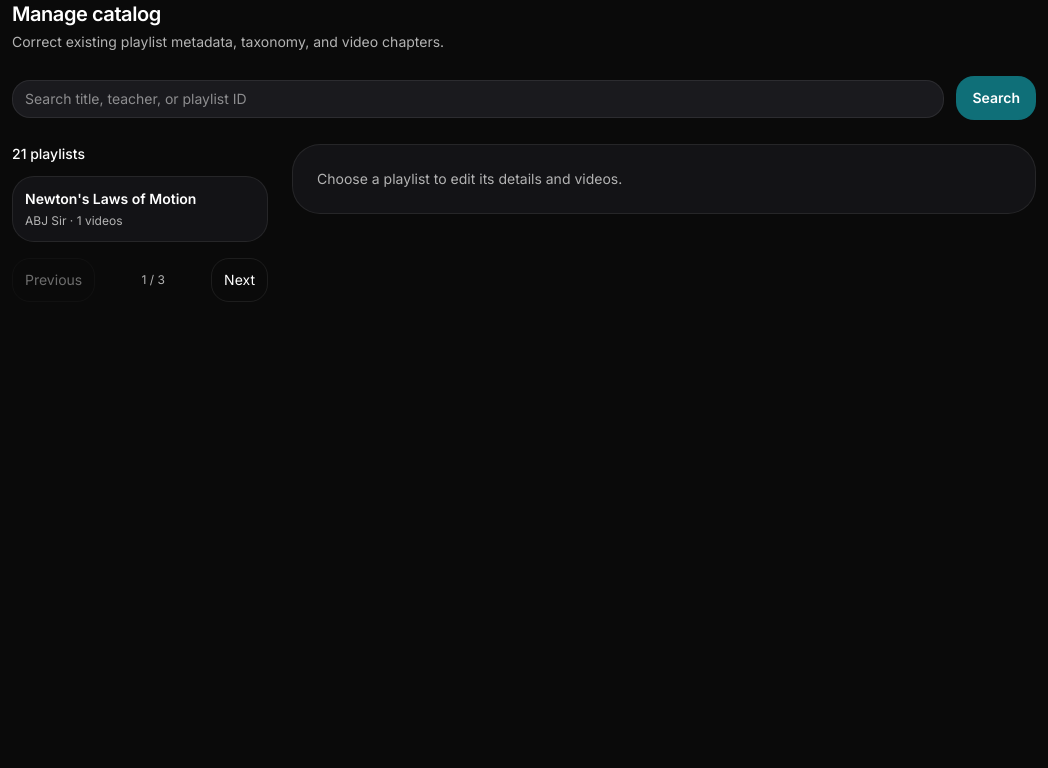
Scenario: ManageCatalogPanel › requires an explicit acknowledgement before changing a shared video
Click the button with aria-label "Edit Newton's Laws of Motion" at (140, 209), box 12,176 -> 268,242
(page scrolled)
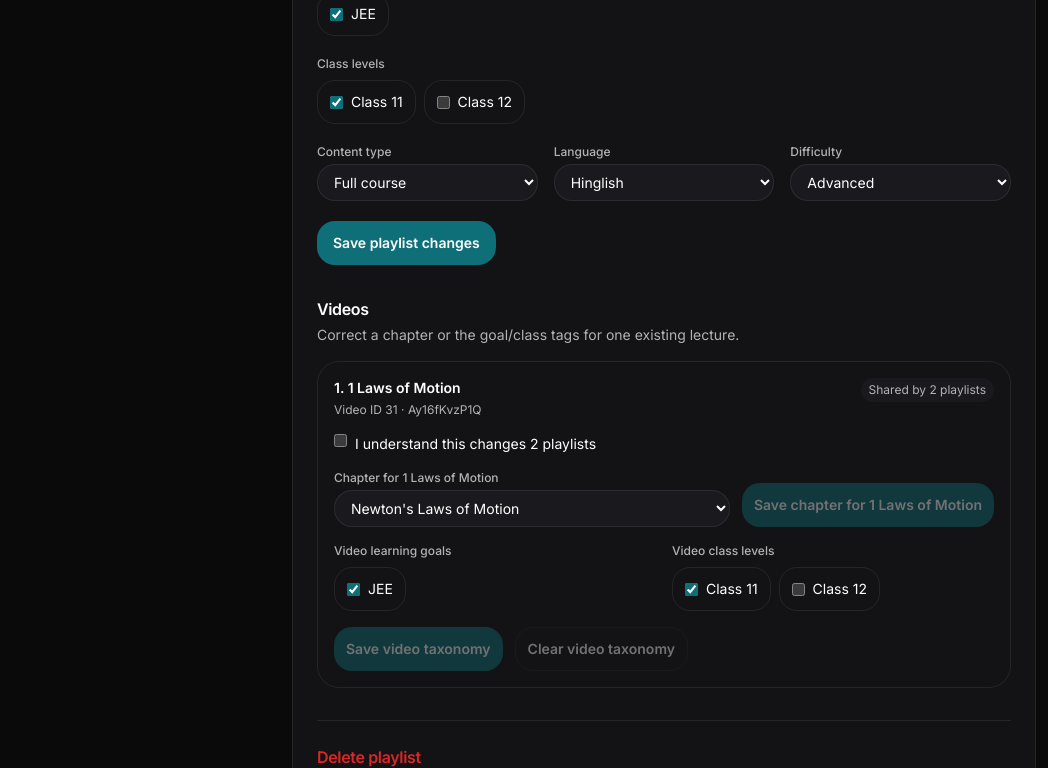
Expected: the button "Save chapter for 1 Laws of Motion" is disabled, 742,483 -> 994,527
Click the checkbox labelled "I understand this changes 2 playlists" at (340, 440), box 334,434 -> 347,447
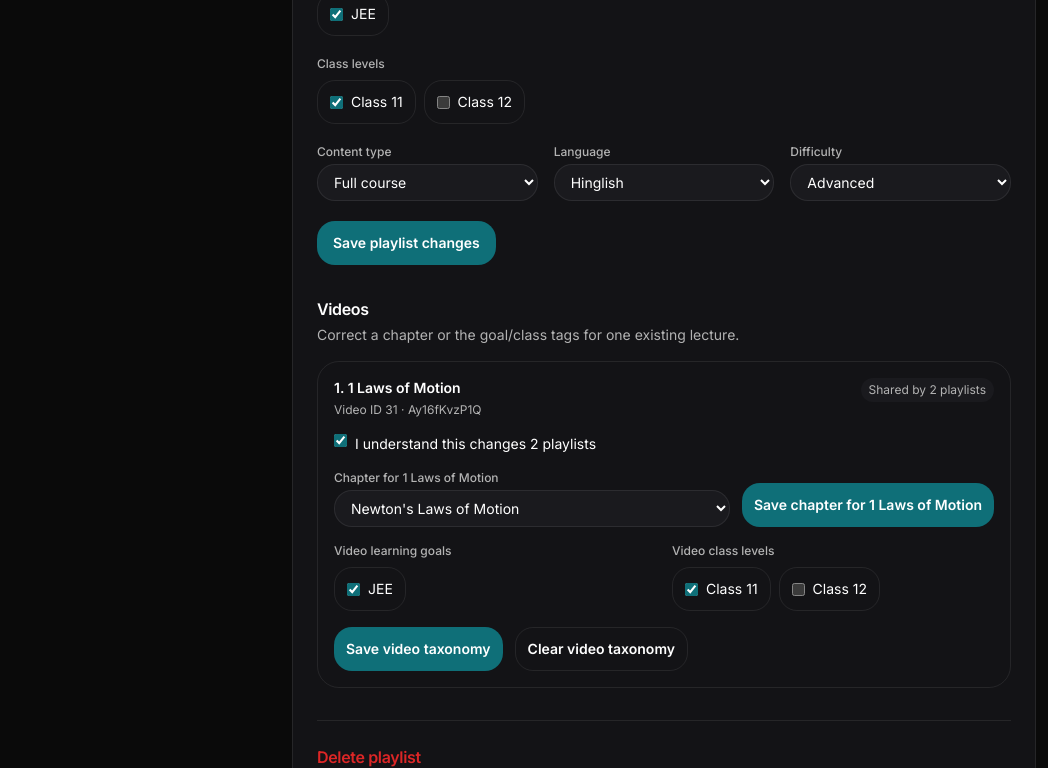
Expected: the button "Save chapter for 1 Laws of Motion" is enabled, 742,483 -> 994,527
